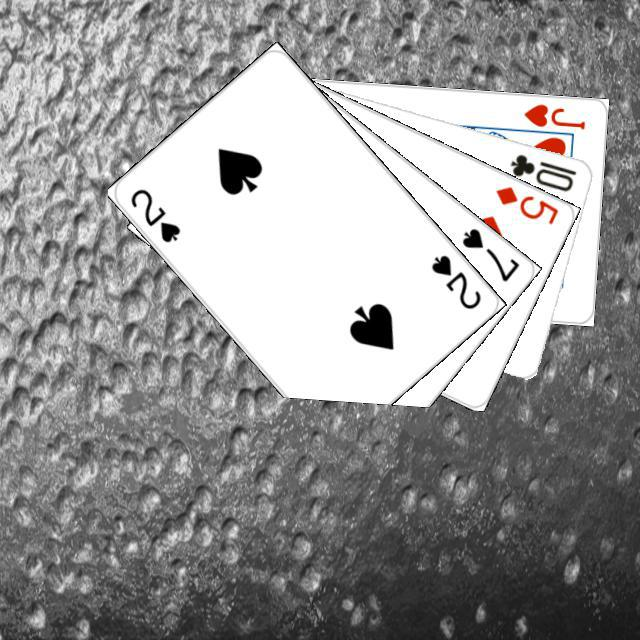10c: (505, 149, 578, 194)
2s: (125, 183, 183, 245), (426, 249, 483, 311)
5d: (490, 181, 560, 227)
7s: (456, 223, 521, 284)
Jh: (519, 99, 587, 131)
